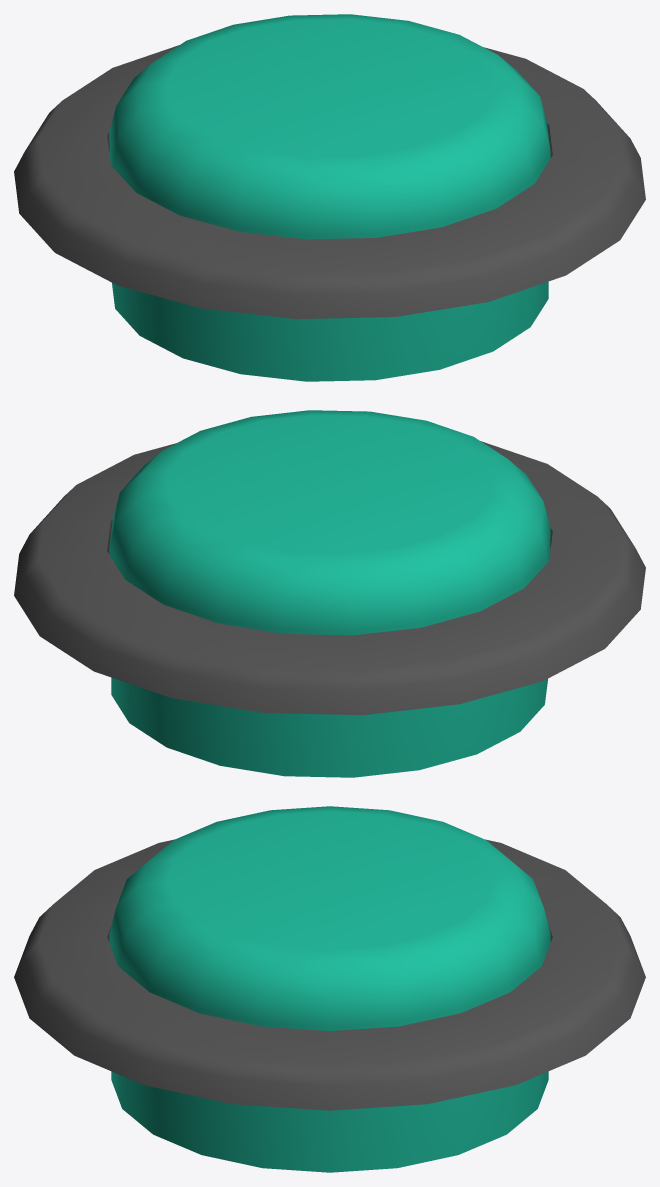
The model's file is button1_pressed.glb.
3 renders of one model, top to bottom at view 1: azimuth 30°, elevation 25°; view 2: azimuth 150°, elevation 25°; view 3: azimuth 270°, elevation 25°, orthographic.
Visible parts, largest first — view 1: SM_SimpleButton_B.001, SM_SimpleButton_Base_B.001; view 2: SM_SimpleButton_B.001, SM_SimpleButton_Base_B.001; view 3: SM_SimpleButton_B.001, SM_SimpleButton_Base_B.001.
Boxes of the visible parts, box(x1,y1,x2,y2) form: SM_SimpleButton_B.001: box(109, 14, 550, 381); SM_SimpleButton_Base_B.001: box(14, 45, 645, 319); SM_SimpleButton_B.001: box(109, 410, 550, 777); SM_SimpleButton_Base_B.001: box(14, 441, 645, 715); SM_SimpleButton_B.001: box(109, 806, 550, 1172); SM_SimpleButton_Base_B.001: box(14, 839, 645, 1110).
Bounding box in the file's own units: 24.07 × 8.4 × 24.07.
